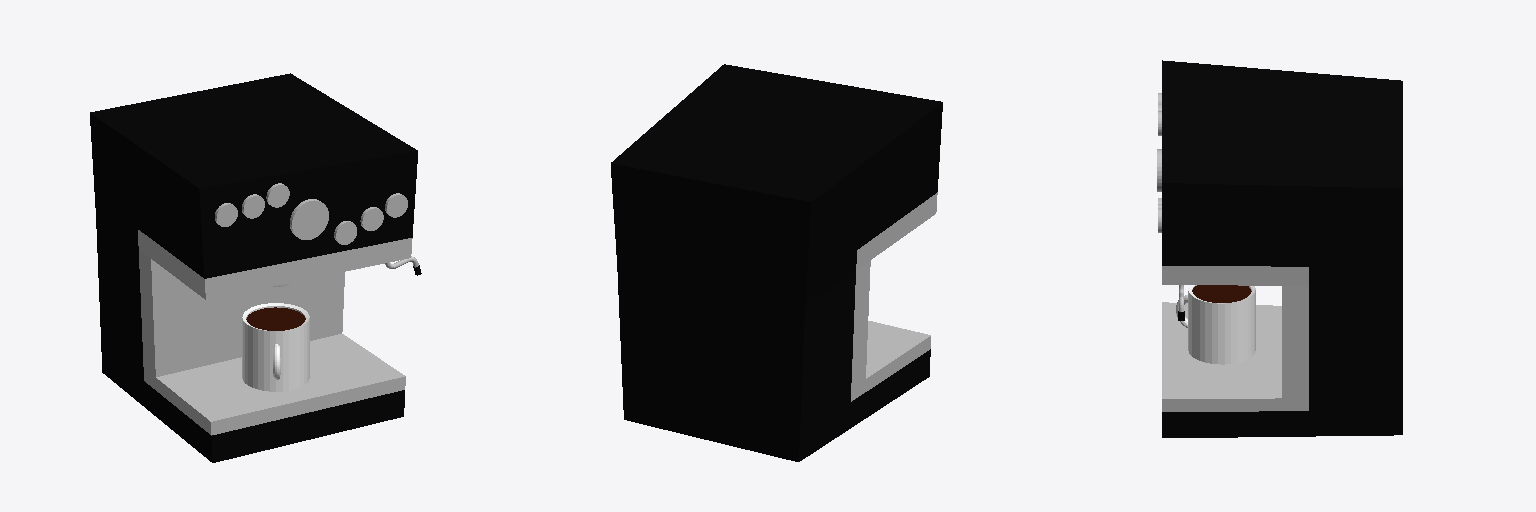
The model's file is espresso_machine.obj.
3 renders of one model, left to right at view 1: azimuth 30°, elevation 25°; view 2: azimuth 150°, elevation 25°; view 3: azimuth 270°, elevation 25°, orthographic.
Visible parts, largest first — view 1: Cylinder.004; view 2: Cylinder.004; view 3: Cylinder.004.
Part boxes in pixels (x1,y1,x2,y2): Cylinder.004: (90,73,421,462); Cylinder.004: (611,64,942,461); Cylinder.004: (1157,60,1402,437).
Bounding box in the file's own units: 2.22 × 2.54 × 2.04.